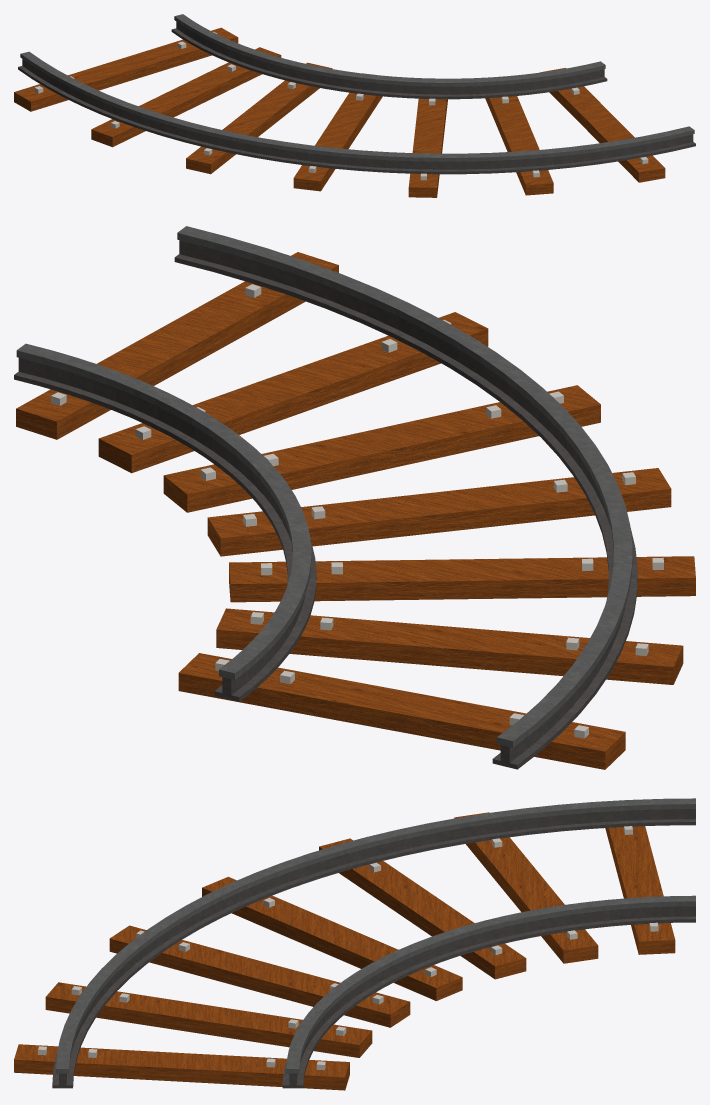
File: rail_curve_small.gltf
3 renders of one model, top to bottom at view 1: azimuth 30°, elevation 25°; view 2: azimuth 150°, elevation 25°; view 3: azimuth 270°, elevation 25°, orthographic. The views are drawn at different scales.
Bounding box in the file's own units: 5.93 × 0.3125 × 5.92.
Materials: 4 (3 with a texture image).
